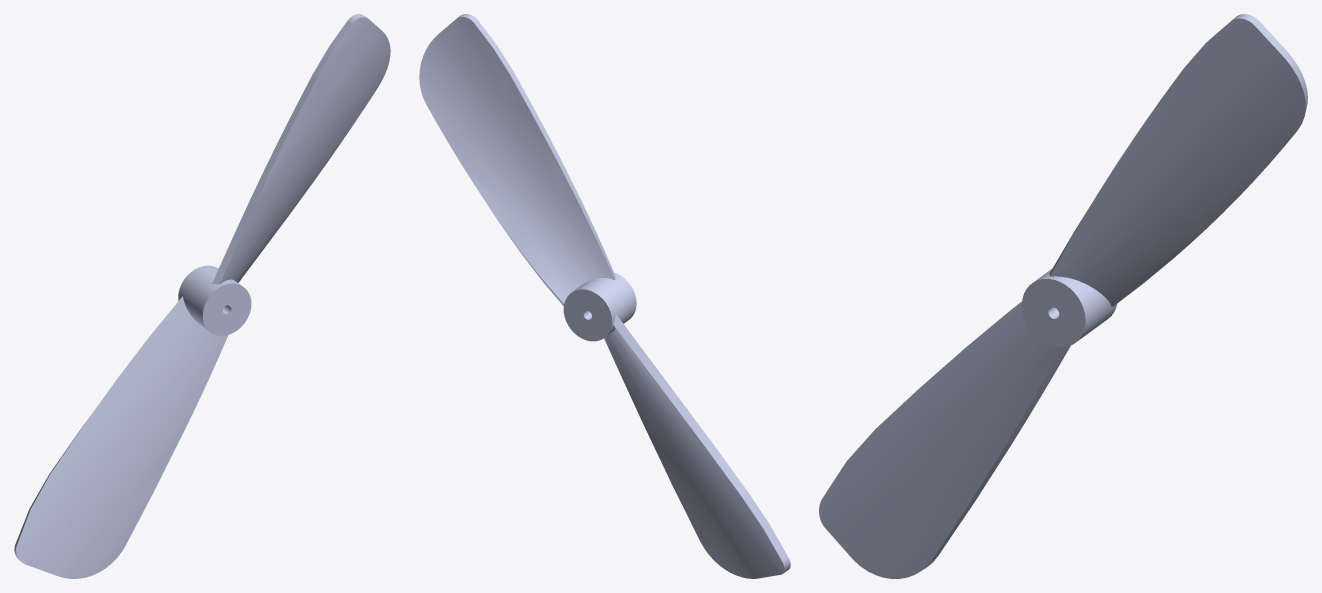
The model's file is propeller0.obj.
The picture shows the model from 3 angles, left to right: view 1: azimuth 30°, elevation 25°; view 2: azimuth 150°, elevation 25°; view 3: azimuth 330°, elevation 25°; orthographic projection. The views are drawn at different scales.
Size of the model in its own units: 0.0305 by 0.0387 by 0.00352.
